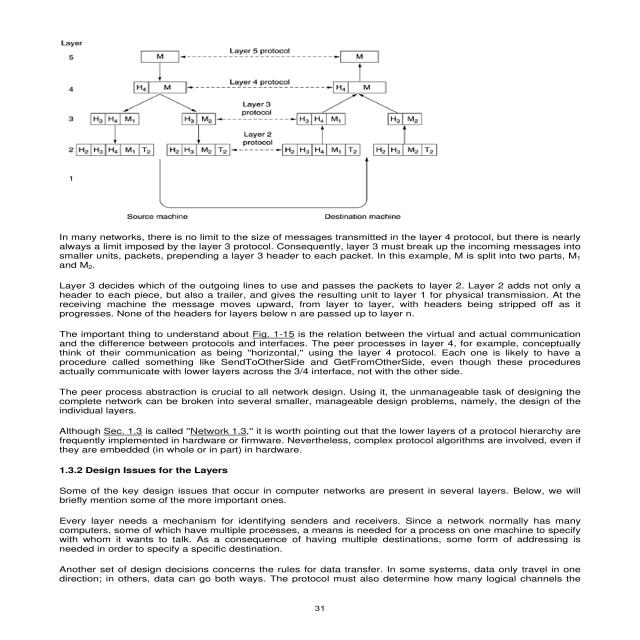diagram: (74, 39, 483, 223), (639, 148, 640, 184)
